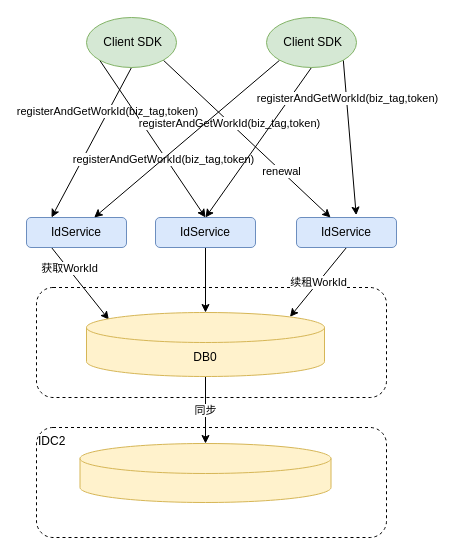
The diagram is 455 pixels wide and 555 high, and some of its shapes have lost their labels. The shapes that lost their labels are listed below. From the top down, each one's box as (x1, y1, x2, y2) in pixels, then its label:
(36, 286, 386, 398): IDC1
(79, 442, 331, 502): DB0'
